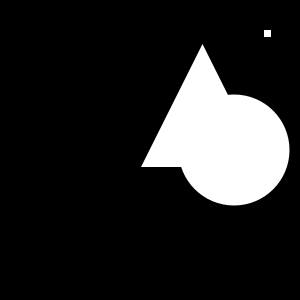circle: (264, 30, 271, 37)
rectangle: (178, 94, 290, 206)
triangle: (141, 44, 264, 167)
